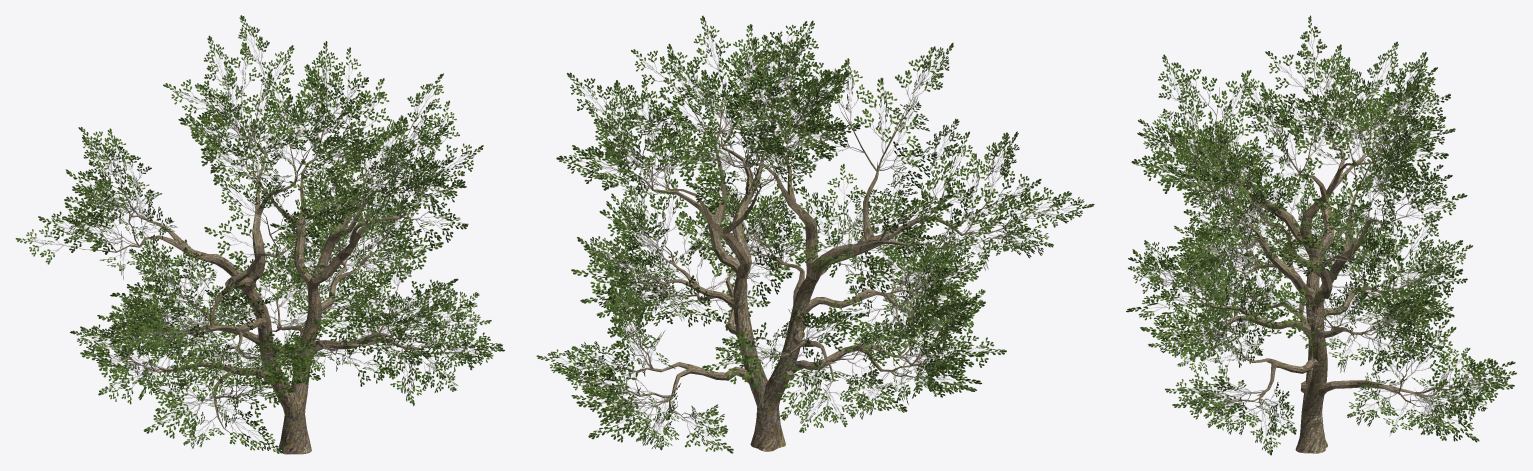
The model's file is oak_gnarled.glb.
3 renders of one model, left to right at view 1: azimuth 30°, elevation 25°; view 2: azimuth 150°, elevation 25°; view 3: azimuth 270°, elevation 25°, orthographic. The views are drawn at different scales.
Visible parts, largest first — view 1: mossybark02_0_w; view 2: mossybark02_0_w; view 3: mossybark02_0_w.
Boxes of the visible parts, x1=… form: mossybark02_0_w: x1=15, y1=15, x2=504, y2=454; mossybark02_0_w: x1=536, y1=15, x2=1094, y2=453; mossybark02_0_w: x1=1126, y1=15, x2=1516, y2=455.
Size of the model in its own units: 14.31 by 12 by 11.14.
2 materials, 2 textured.
